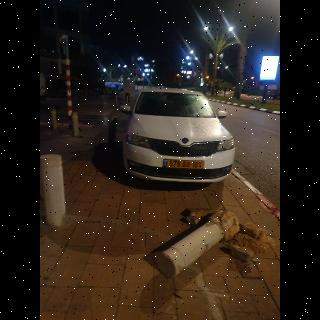LicensePlate: (168, 159, 204, 169)
